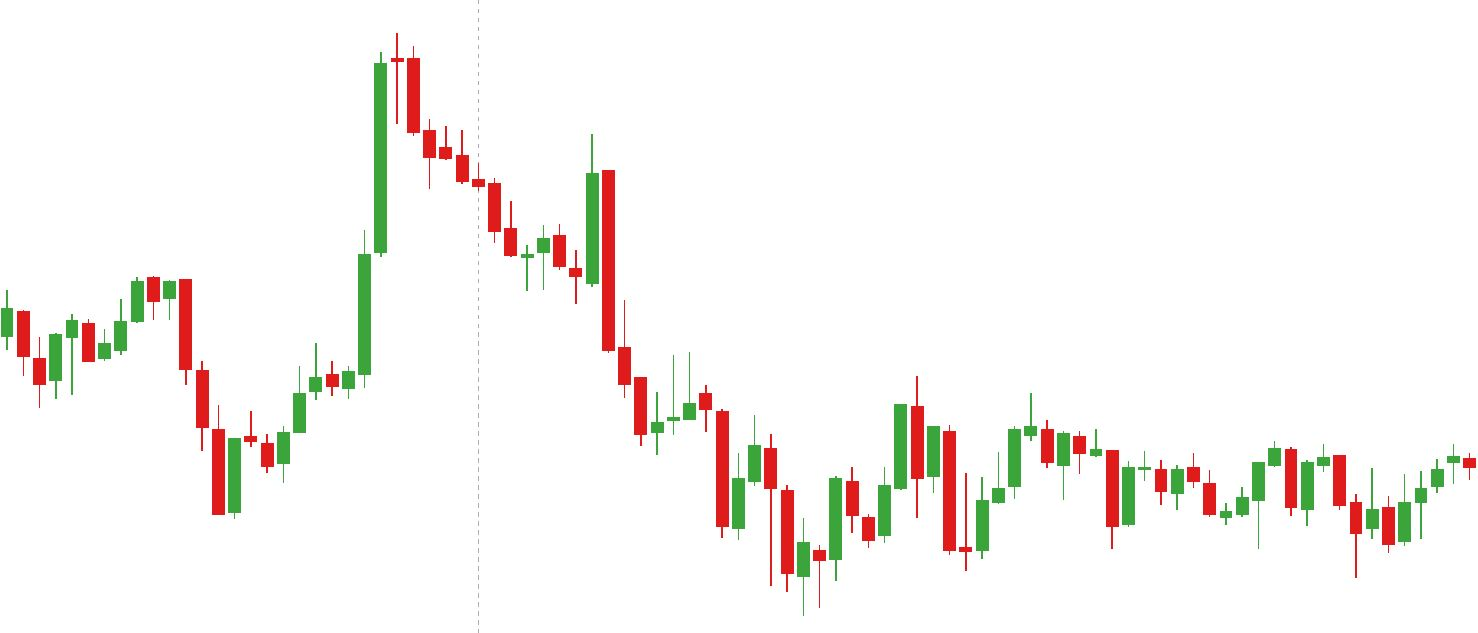buy: (859, 445, 992, 571), (1248, 467, 1366, 580)
